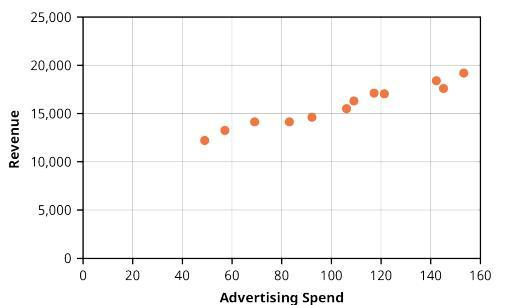axis: (77, 254, 485, 266), (76, 10, 87, 268)
point: (338, 103, 353, 116), (283, 116, 298, 128), (218, 124, 231, 137), (379, 87, 392, 100), (457, 66, 470, 79), (248, 116, 262, 128), (198, 134, 211, 146), (348, 94, 361, 106), (437, 82, 450, 94), (368, 87, 380, 99), (430, 74, 442, 86), (306, 112, 319, 123)
